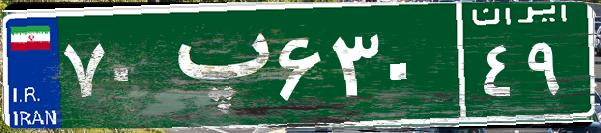0: (385, 28, 445, 110), (110, 28, 158, 105)
3: (330, 28, 385, 110)
4: (475, 38, 525, 113)
6: (273, 28, 330, 110)
7: (57, 26, 110, 107)
9: (525, 38, 570, 115)
پ: (158, 15, 273, 115)
